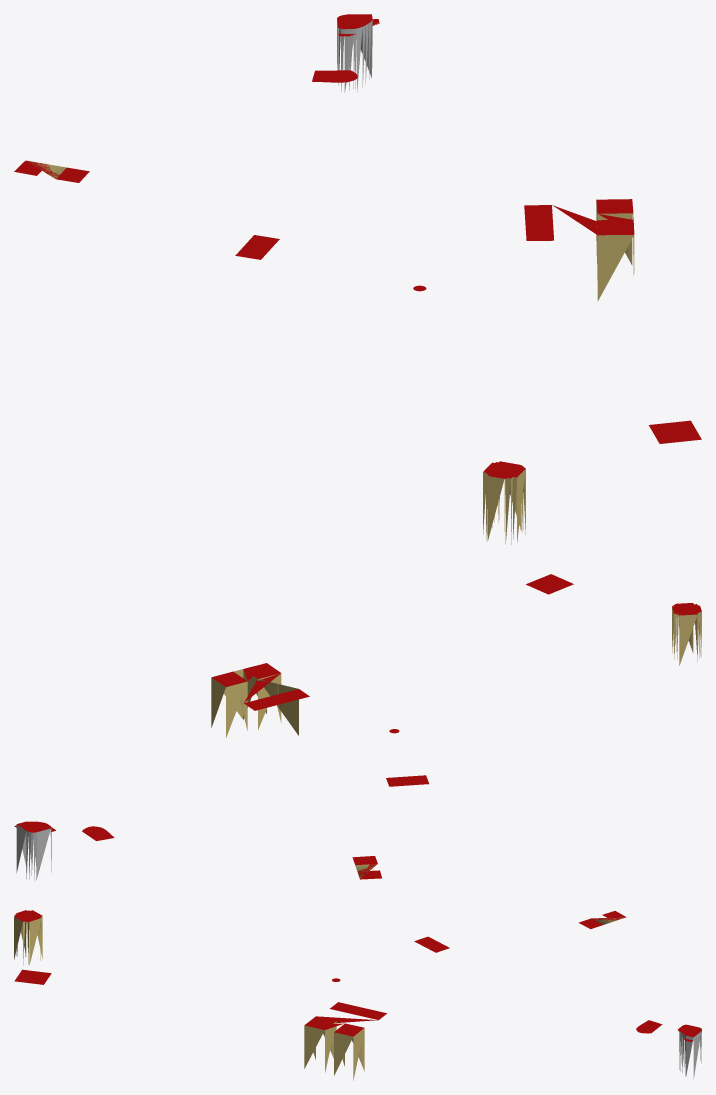
The picture shows the model from 3 angles, top to bottom: view 1: azimuth 30°, elevation 25°; view 2: azimuth 150°, elevation 25°; view 3: azimuth 270°, elevation 25°; orthographic projection. The views are drawn at different scales.
Bounding box in the file's own units: 446 × 67.5 × 952.
